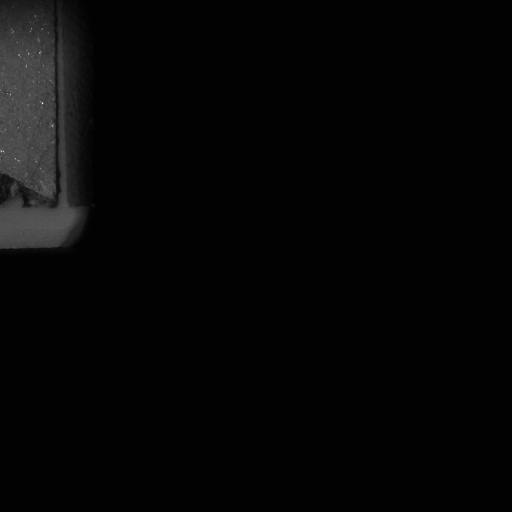bengque: (0, 177, 61, 211)
